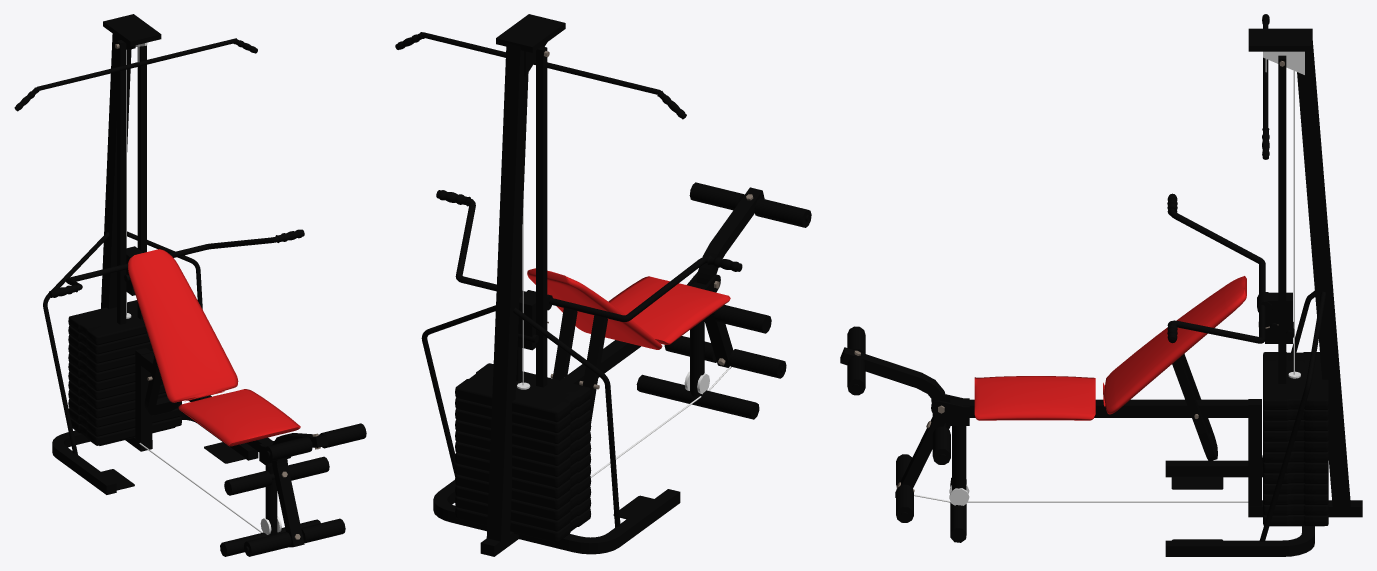
The model's file is gym.fbx.
3 renders of one model, left to right at view 1: azimuth 30°, elevation 25°; view 2: azimuth 150°, elevation 25°; view 3: azimuth 270°, elevation 25°, orthographic. The views are drawn at different scales.
Parts seen in each view (by area): view 1: mainframe, seatback, footbar, weight1, lowbar, HighBar, seatpole, weight2, weight3, weight4; view 2: mainframe, footbar, lowbar, weight1, seatback, seatpole, HighBar, weight3, weight2, weight4; view 3: mainframe, footbar, seatback, lowbar, weight1, seatpole, HighBar, weight2, weight4, weight3.
Boxes of the visible parts, x1,y1,x2,y2 form: mainframe: (43, 14, 320, 556); seatback: (128, 249, 238, 402); footbar: (224, 423, 366, 556); weight1: (68, 300, 147, 345); lowbar: (49, 229, 304, 297); HighBar: (14, 38, 257, 111); seatpole: (144, 356, 180, 415); weight2: (68, 326, 149, 354); weight3: (68, 335, 152, 363); weight4: (68, 344, 153, 372); mainframe: (421, 14, 759, 556); footbar: (664, 182, 811, 390); lowbar: (436, 190, 742, 350); weight1: (455, 363, 591, 422); seatback: (527, 268, 662, 349); seatpole: (552, 308, 607, 422); HighBar: (395, 32, 686, 119); weight3: (455, 409, 591, 443); weight2: (455, 398, 591, 433); weight4: (455, 420, 591, 454); mainframe: (931, 28, 1362, 556); footbar: (840, 326, 950, 522); seatback: (1103, 276, 1246, 414); lowbar: (1167, 193, 1294, 343); weight1: (1263, 352, 1328, 409); seatpole: (1172, 353, 1217, 461); HighBar: (1262, 14, 1269, 159); weight2: (1263, 408, 1328, 420); weight4: (1263, 429, 1328, 441); weight3: (1263, 418, 1328, 430).
Bounding box in the file's own units: 46.33 × 72.45 × 71.61.
